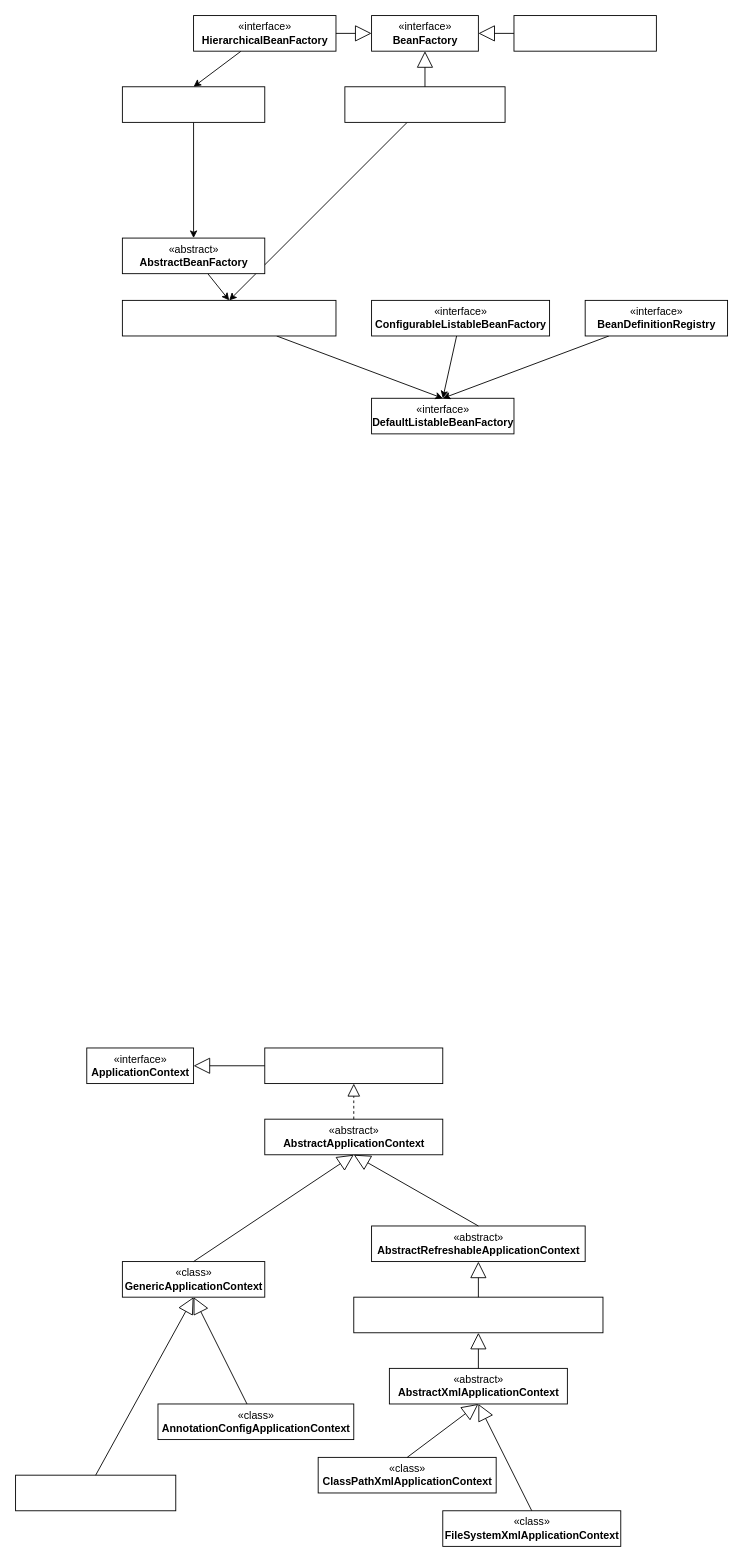
Image size: 743x1562. Some labels were removed from this diagram. Here are the shapes that lost their labels. From the top down, the box of each, then its label:
(513, 15, 656, 51): «interface» ListableBeanFactory
(121, 86, 265, 122): «interface» ConfigurableBeanFactory
(344, 86, 505, 122): «interface» AutowireCapableBeanFactory
(121, 299, 336, 336): «abstract» AbstractAutowireCapableBeanFactory
(264, 1047, 443, 1084): «interface» ConfigurableApplicationContext
(353, 1296, 603, 1333): «abstract» AbstractRefreshableConfigApplicationContext
(15, 1474, 176, 1511): «class» GenericXmlApplicationContext
